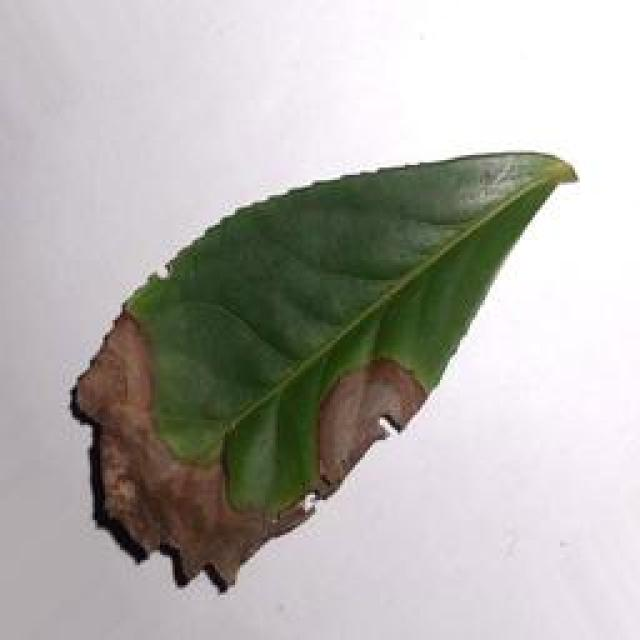Brown Blight: (53, 116, 583, 597)
